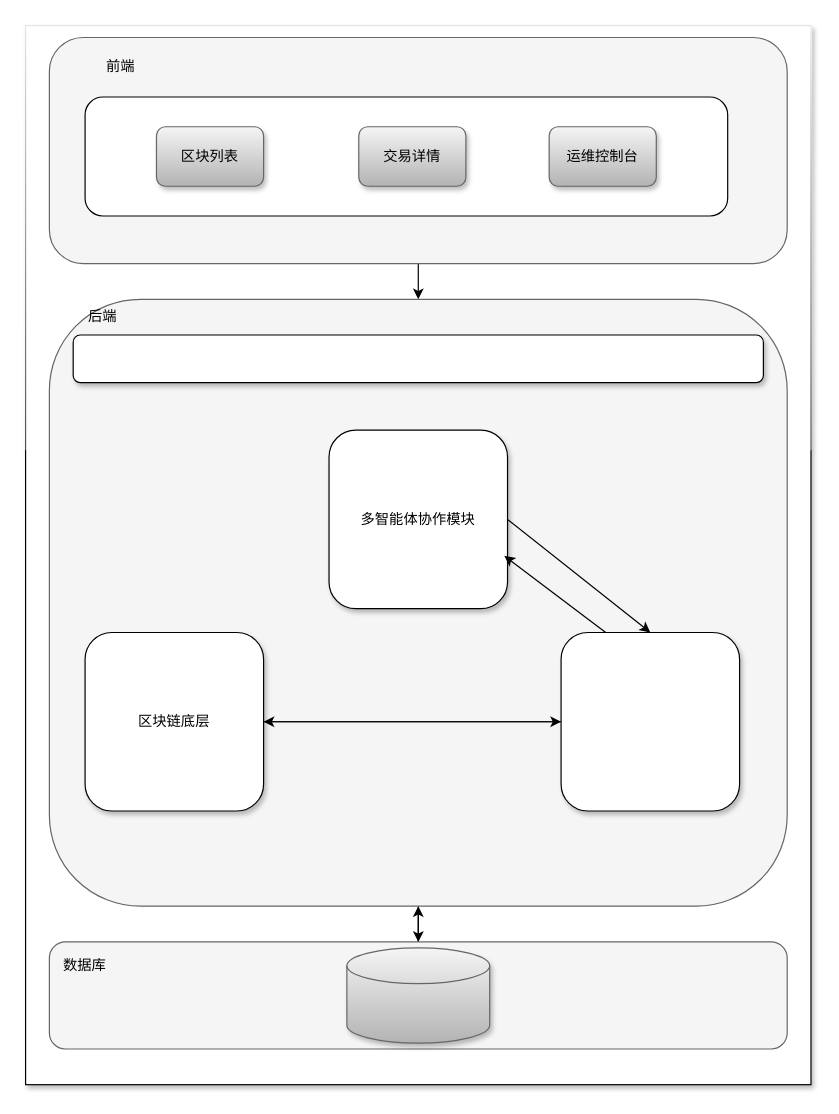
Some shapes in this 839 by 1114 pixel diagram are drawn without their labels. Each missing label, with the centre of its shape:
"DAO Executor" goes at point (651, 723).
"PostgreSQL" goes at point (419, 996).
"Python FastAPI" goes at point (419, 360).
